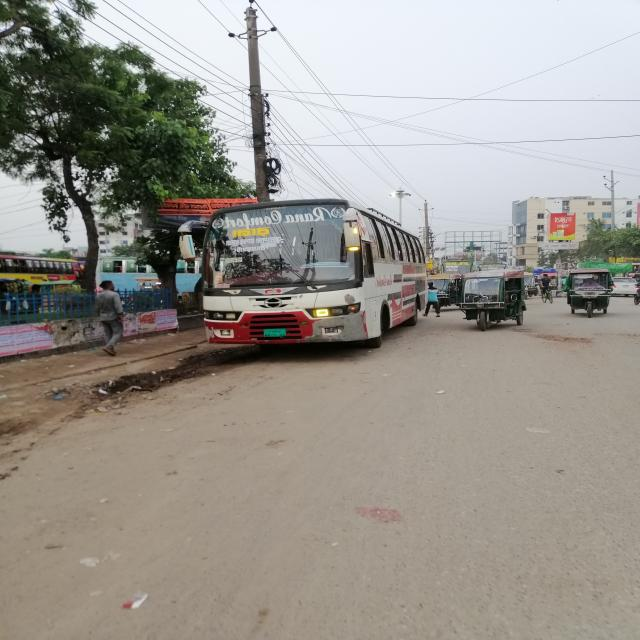Bus: (174, 201, 428, 348)
